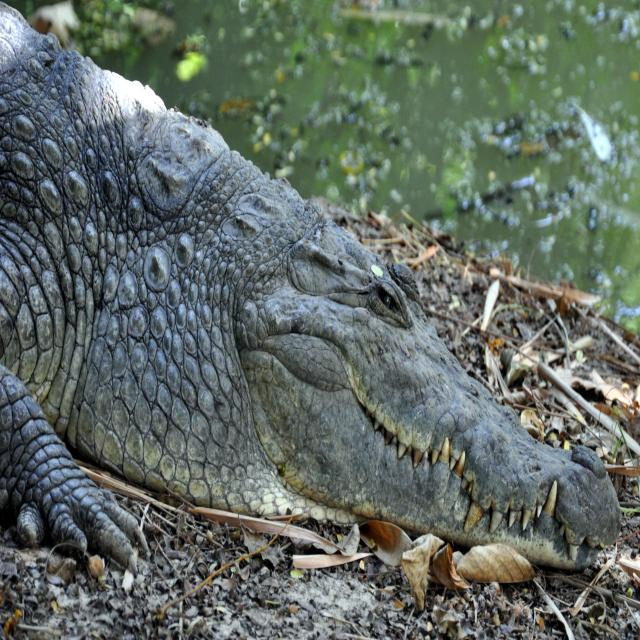crocodile: (0, 0, 622, 567)
